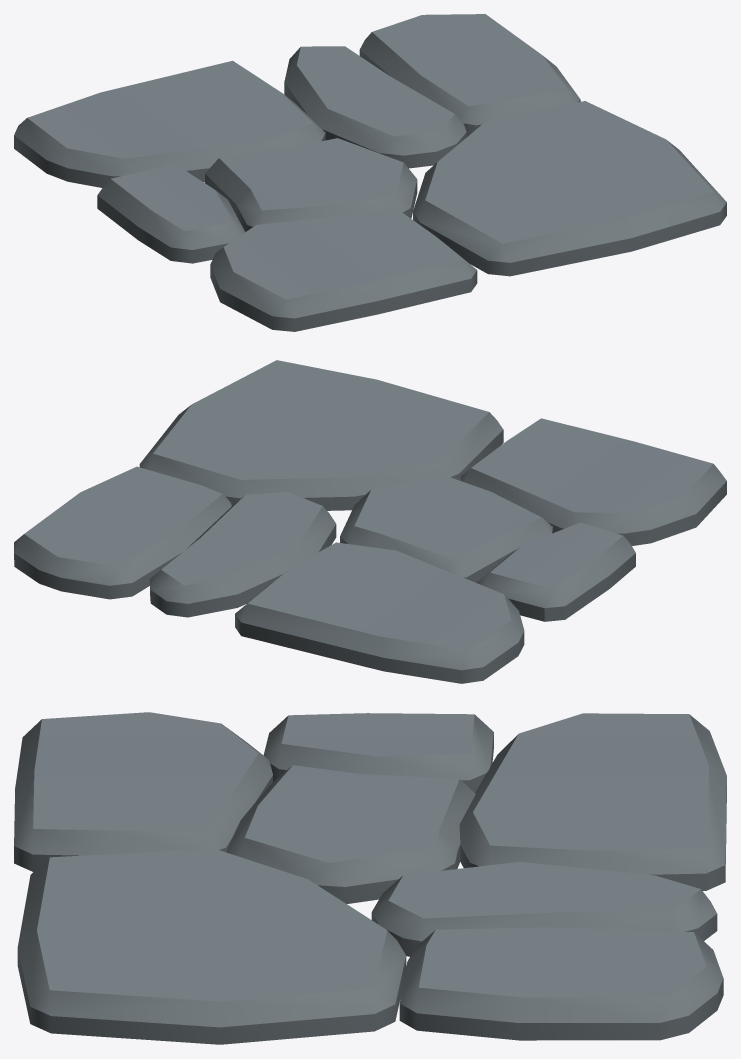
The model's file is stone-path.glb.
3 renders of one model, top to bottom at view 1: azimuth 30°, elevation 25°; view 2: azimuth 150°, elevation 25°; view 3: azimuth 270°, elevation 25°, orthographic. The views are drawn at different scales.
Visible parts, largest first — view 1: path_B; view 2: path_B; view 3: path_B.
Boxes of the visible parts, bbox=[...] form: path_B: bbox=[14, 14, 726, 331]; path_B: bbox=[14, 360, 726, 683]; path_B: bbox=[14, 712, 726, 1044].
Bounding box in the file's own units: 1.89 × 0.1 × 1.86.
Materials: 1 (1 with a texture image).
